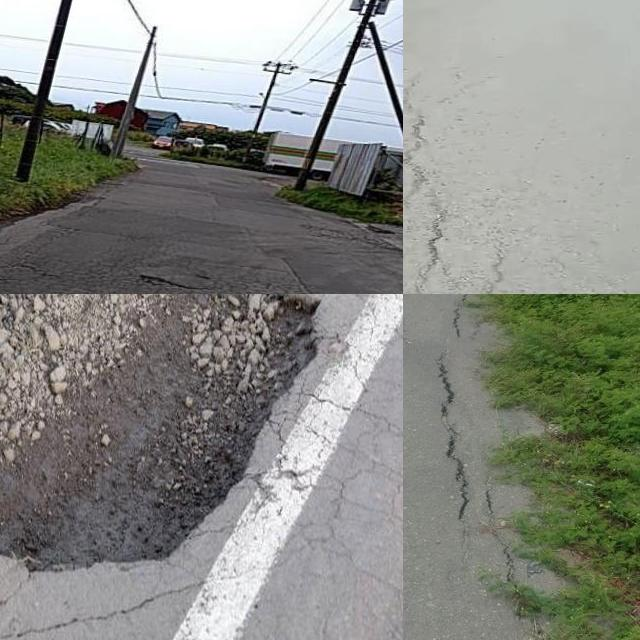Memanjang: (403, 68, 469, 294)
Pinggir: (0, 294, 351, 633), (414, 294, 640, 640)
